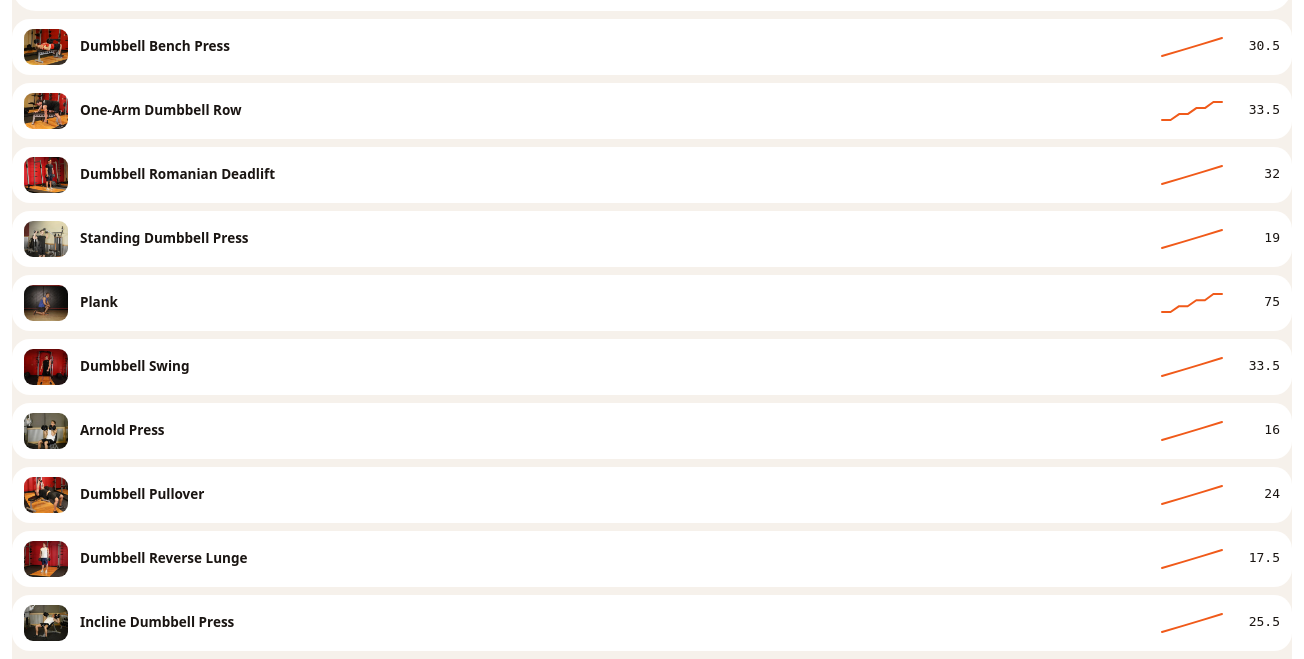
it: ProgressScreen › shows limits instead of a one-rep max for exercises without weight
(page scrolled)
Step 1. Click the button with aria-label "Show the progress of Plank" → x=46, y=303, box [12, 275, 1292, 331]
(page scrolled)
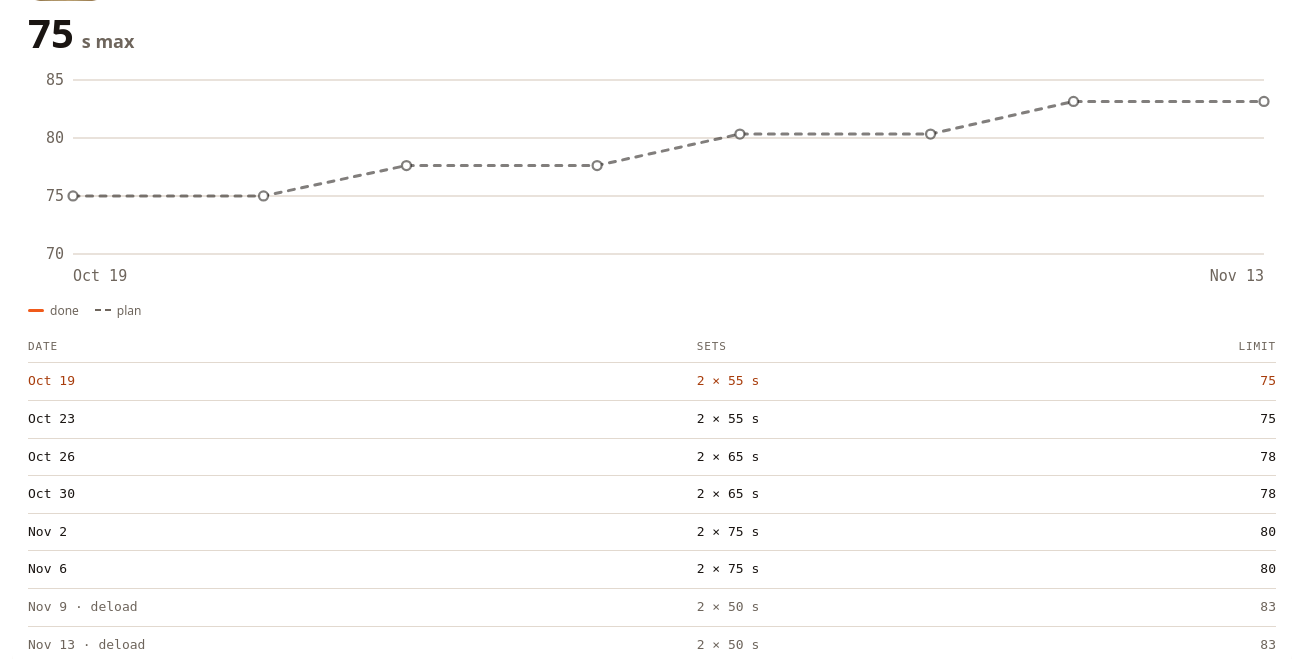
Result: the element "Plank" shows "75" at [28, 5, 74, 60]
Result: the element "Plank" shows "s max" at [82, 29, 134, 53]
Result: the column headings read "Date", "Sets", "Limit", in this order at [28, 331, 697, 363]; [697, 331, 1082, 363]; [1082, 331, 1276, 363]
